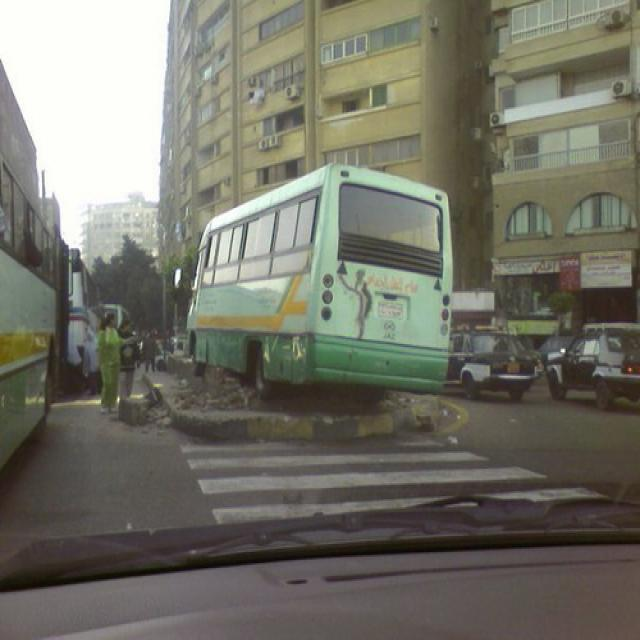light_vehicle: (543, 320, 637, 411), (444, 325, 539, 398)
